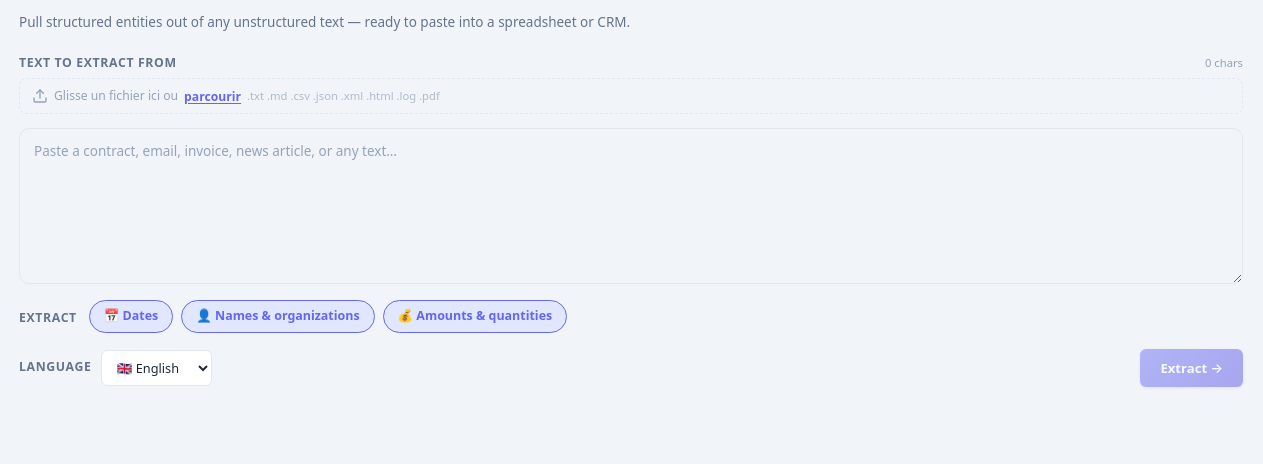
Test: ExtractAnalyzer › shows error when fetch throws (network failure)
The image size is (1263, 464).
Type "some text" into the text box labelled "Text to extract from" at (631, 206), box [19,128,1243,284]
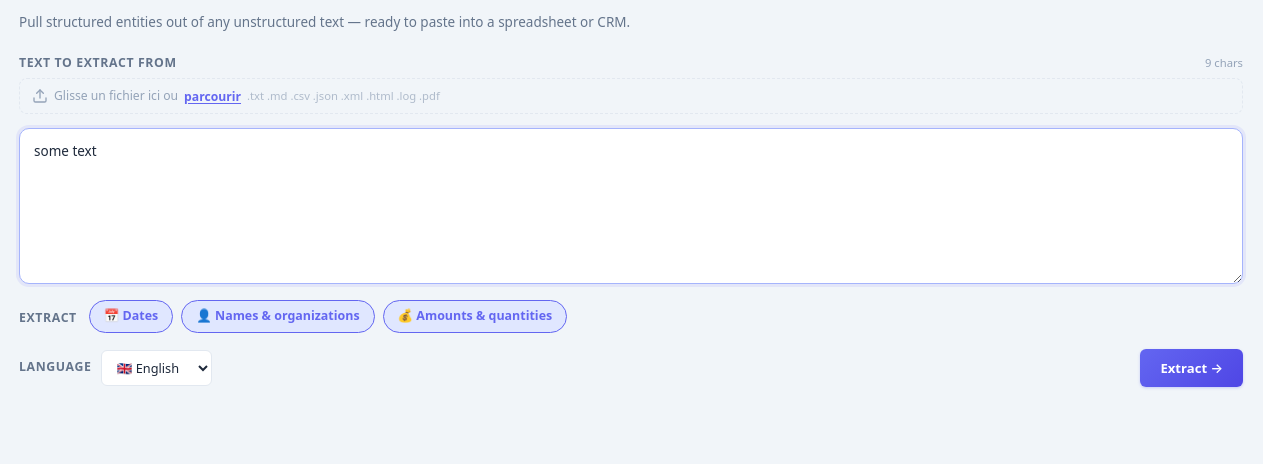
Click the button "Extract →" at (1192, 368), box [1140,348,1243,386]
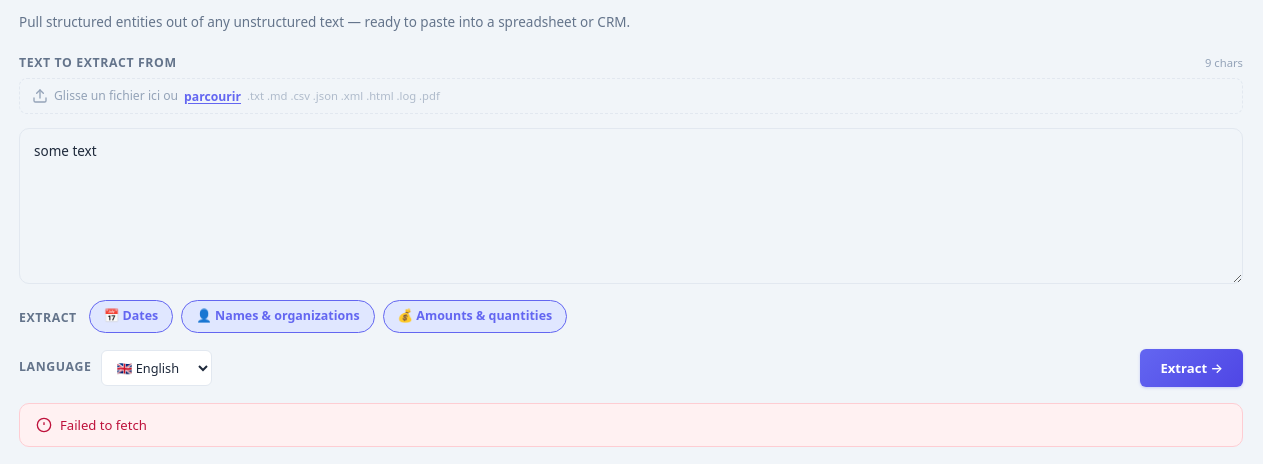
expect the message "Failed to fetch" is shown: met, box [19,402,1243,447]
